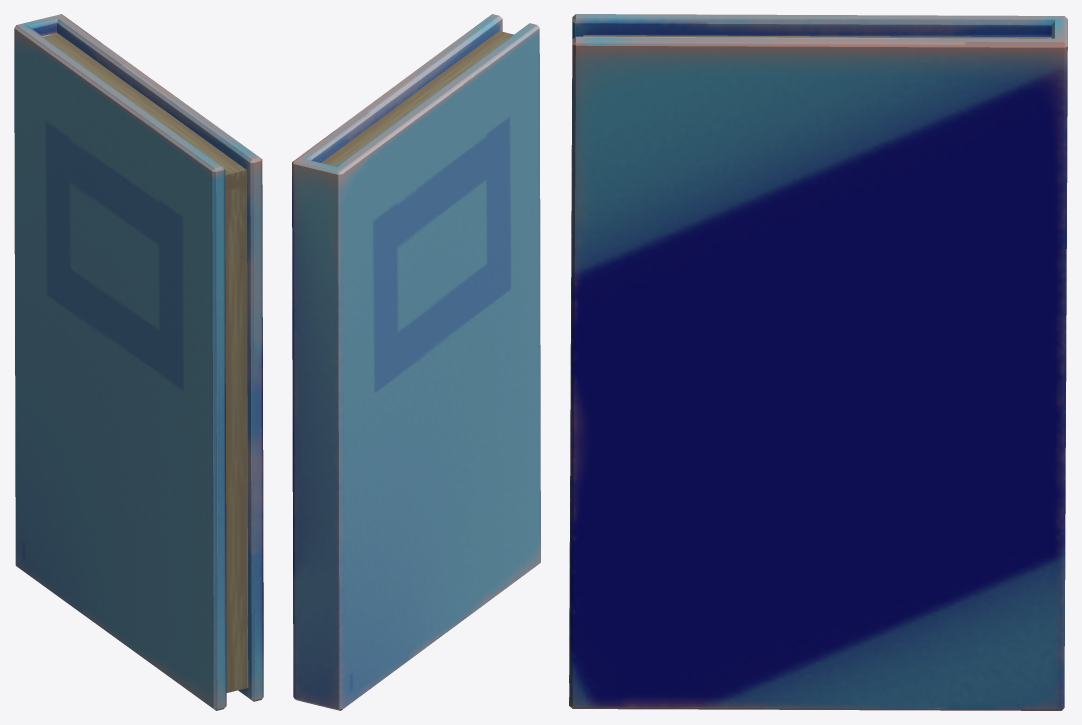
The model's file is Libro_4.fbx.
3 renders of one model, left to right at view 1: azimuth 30°, elevation 25°; view 2: azimuth 150°, elevation 25°; view 3: azimuth 270°, elevation 25°, orthographic. The views are drawn at different scales.
Parts seen in each view (by area): view 1: Libros 4; view 2: Libros 4; view 3: Libros 4.
Boxes of the visible parts, box(x1,y1,x2,y2) form: Libros 4: box(14, 14, 263, 710); Libros 4: box(292, 14, 540, 710); Libros 4: box(569, 14, 1067, 710).
Bounding box in the file's own units: 8.13 × 84.26 × 56.86.
